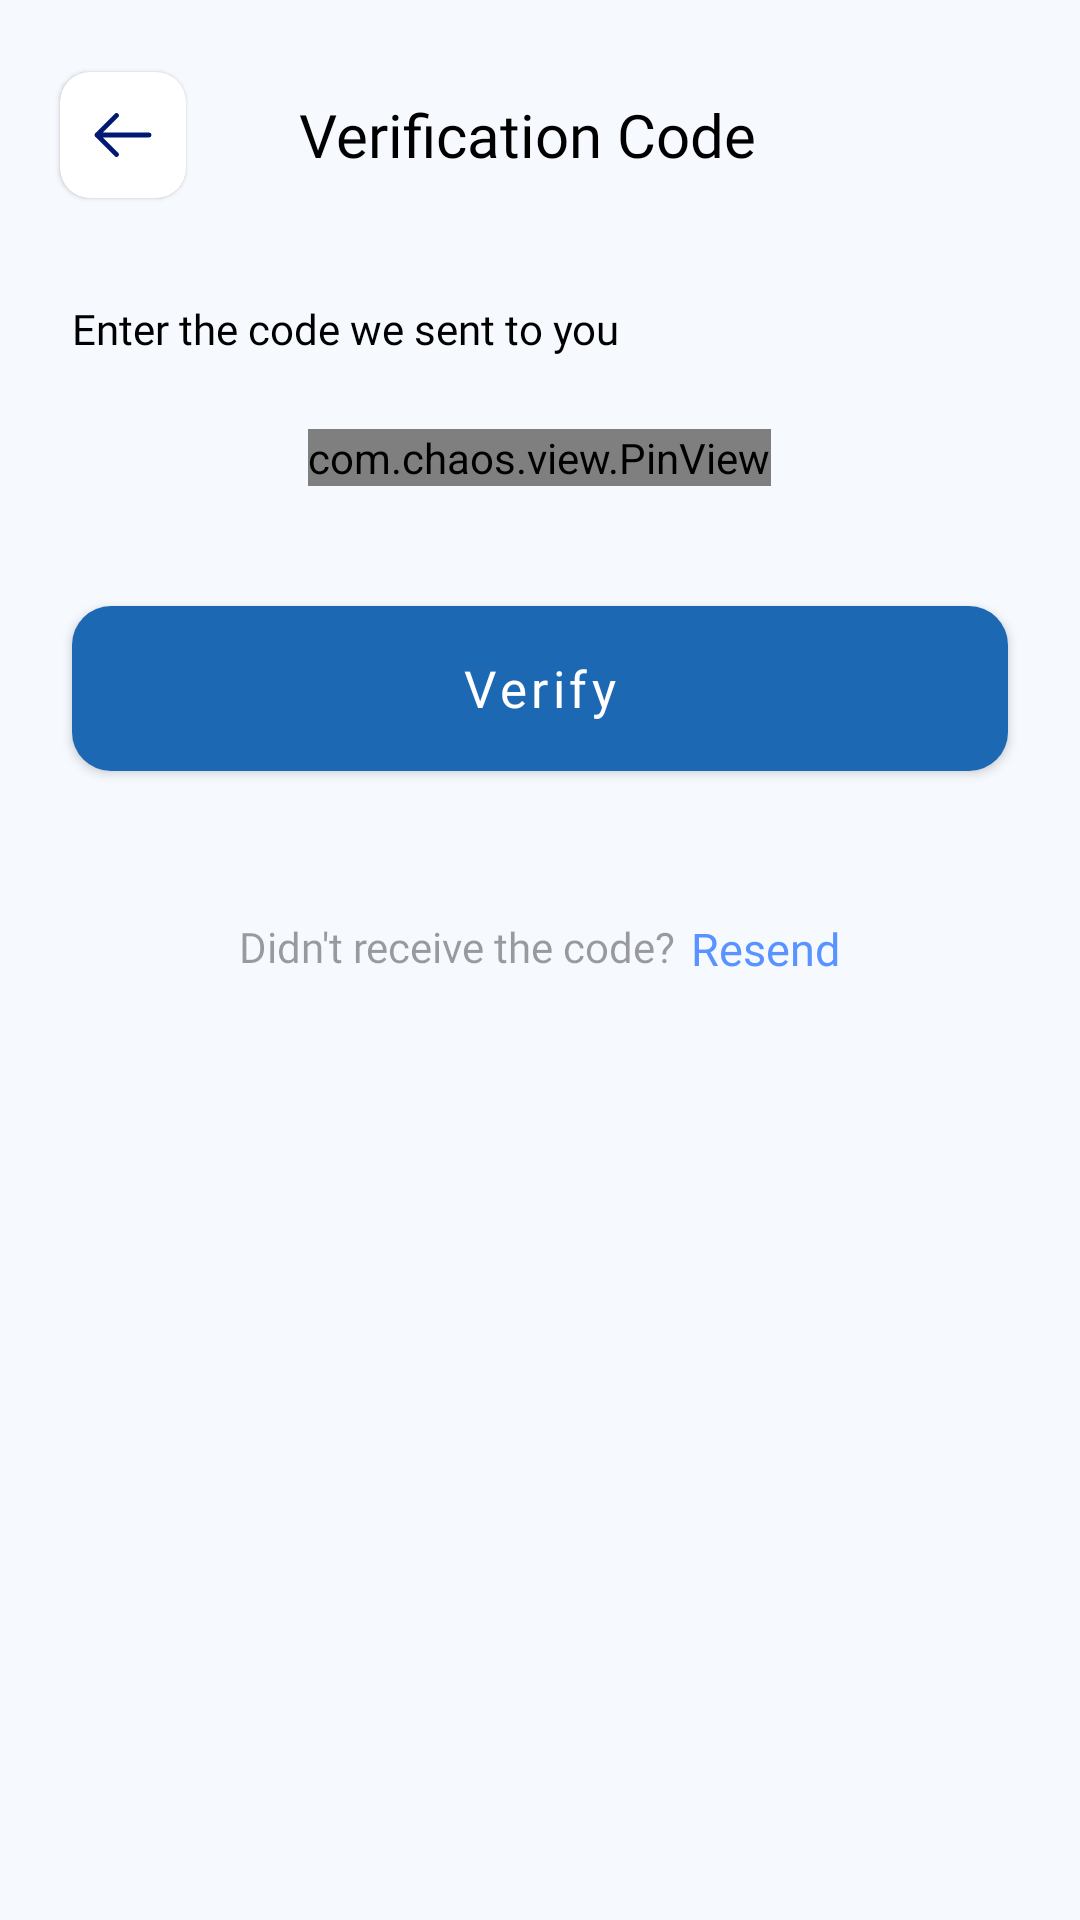

Named icons in this screenshot (1080px x 1920px) and their centers, (x=x, y=y):
arrow left: (x=123, y=135)
